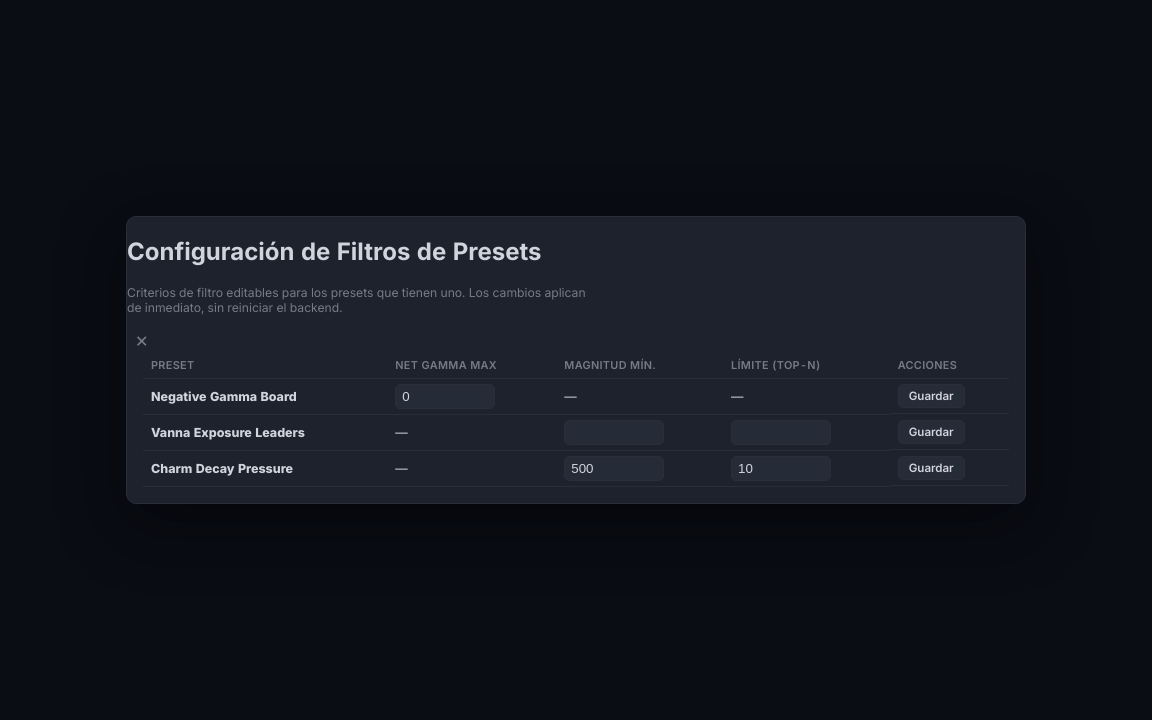
ScreenerPresetSettingsPanel › shows a translated error when saving fails on the server
expect the text "Negative Gamma Board" is shown: met, box [143, 379, 387, 415]
Click the button "Guardar" in the row of "Negative Gamma Board".
click(931, 396)  # box [898, 384, 965, 408]
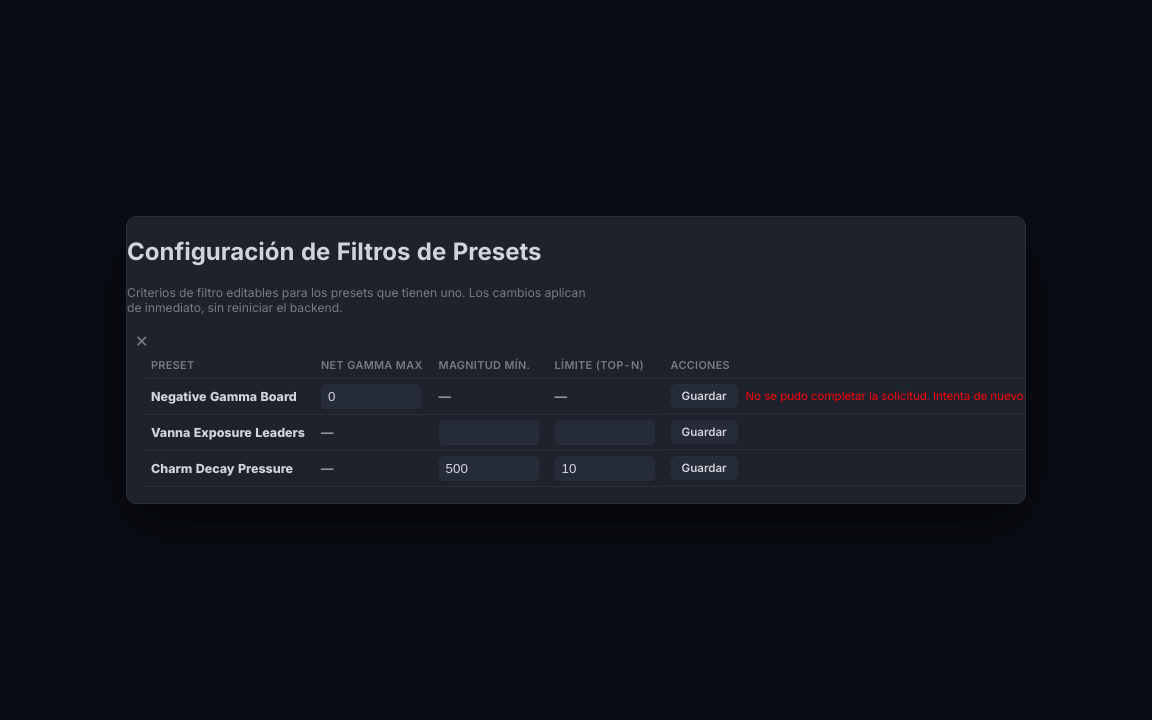
expect the text "No se pudo completar la solicitud. Intenta de nuevo." is shown: met, box [746, 389, 1025, 403]
